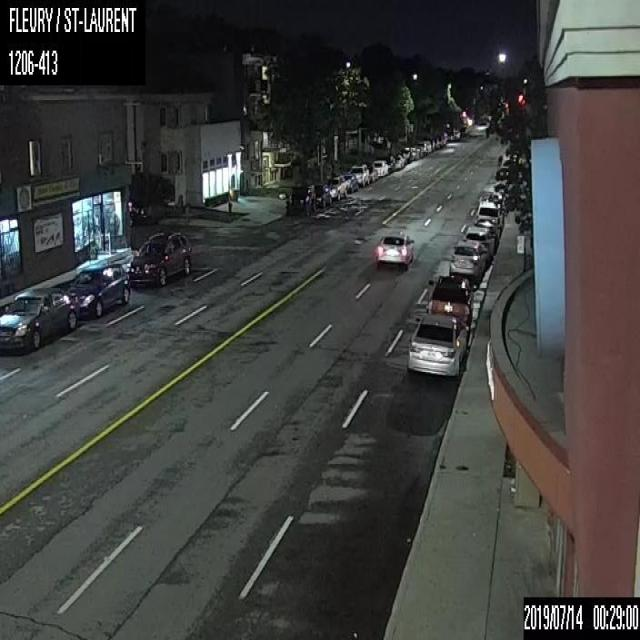vehicle: (0, 286, 78, 354), (405, 313, 467, 379), (128, 231, 192, 285), (68, 263, 129, 317), (428, 274, 476, 325), (448, 238, 486, 280), (376, 229, 414, 267), (462, 224, 496, 262), (286, 181, 314, 216), (474, 199, 502, 227), (324, 175, 346, 199), (128, 199, 146, 226), (348, 163, 368, 186), (314, 181, 331, 208), (340, 171, 357, 192), (371, 159, 388, 176), (367, 162, 377, 181), (384, 155, 395, 170)
